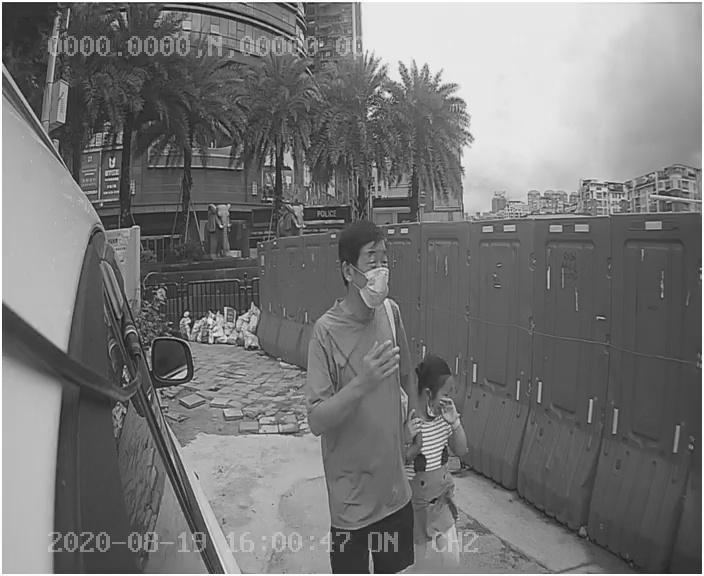person: (289, 213, 423, 546)
